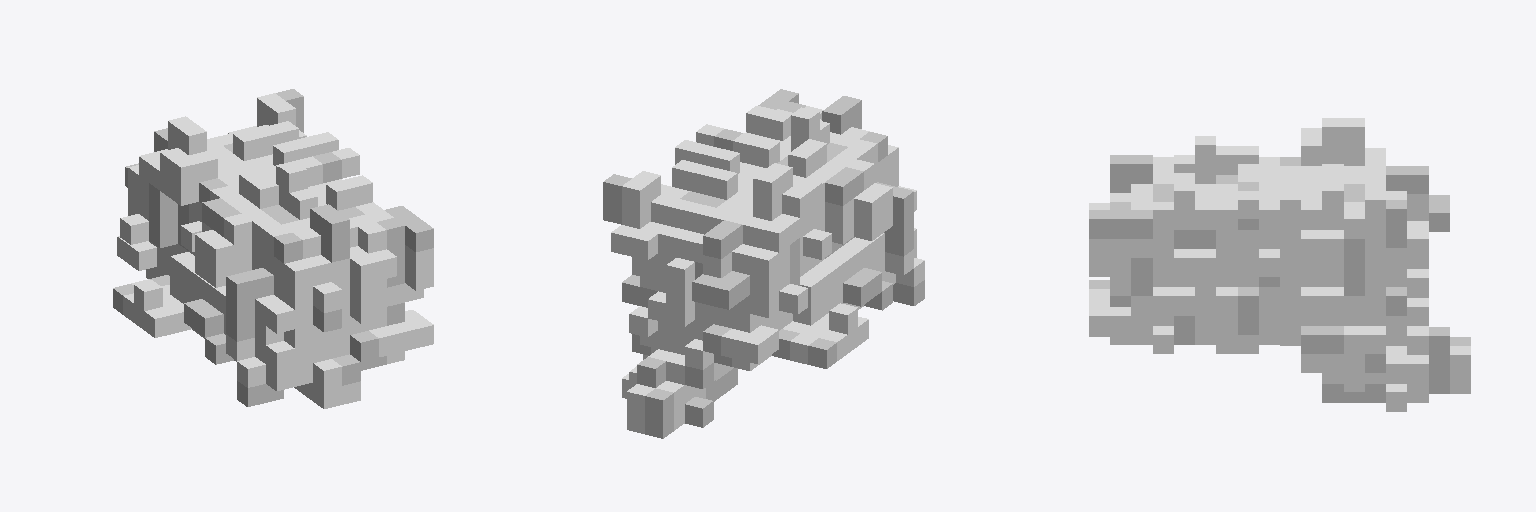
3 views of the same model, side by side, from view 1: azimuth 30°, elevation 25°; view 2: azimuth 150°, elevation 25°; view 3: azimuth 270°, elevation 25° (orthographic).
Parts seen in each view (by area): view 1: object 1; view 2: object 1; view 3: object 1.
Part boxes in pixels (x1,y1,x2,y2): object 1: (113,89,433,408); object 1: (603,89,924,438); object 1: (1089,118,1470,411).
Bounding box in the file's own units: 1.1 × 1.2 × 1.8.
Materials: 1 (1 with a texture image).